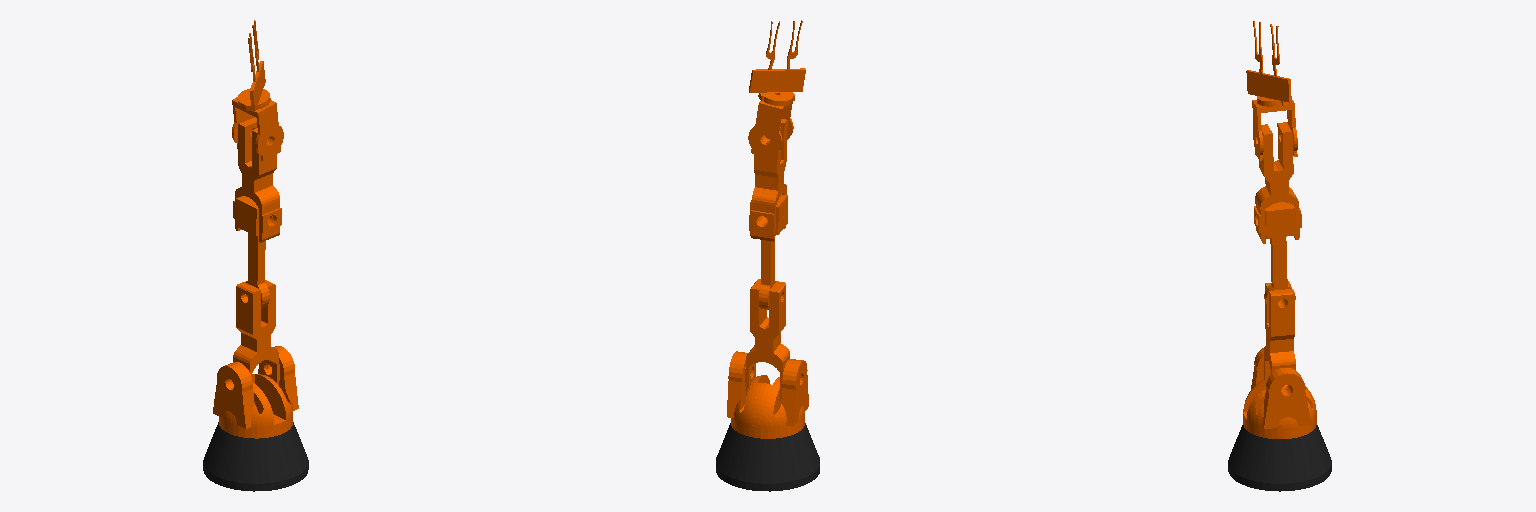
URDF robot description (Braccio_ros):
<?xml version="1.0" encoding="utf-8"?>
<!-- This URDF was automatically created by SolidWorks to URDF Exporter! Originally created by [author] ([email redacted]) 
     Commit Version: 1.6.0-1-g15f4949  Build Version: 1.6.7594.29634
     For more information, please see http://wiki.ros.org/sw_urdf_exporter -->
<robot
  name="Braccio_ros">
  <link
    name="boxr">
    <inertial>
      <origin
        xyz="-1.2975E-18 0.052388 5.4873E-16"
        rpy="0 0 0" />
      <mass
        value="13.783" />
      <inertia
        ixx="0.1324"
        ixy="-6.704E-18"
        ixz="-3.6412E-31"
        iyy="0.18314"
        iyz="5.3146E-16"
        izz="0.1324" />
    </inertial>
    <visual>
      <origin
        xyz="0 0 0"
        rpy="0 0 0" />
      <geometry>
        <mesh
          filename="package://Braccio_ros/meshes/boxr.STL" />
      </geometry>
      <material
        name="">
        <color
          rgba="0.18039 0.18039 0.18039 1" />
      </material>
    </visual>
    <collision>
      <origin
        xyz="0 0 0"
        rpy="0 0 0" />
      <geometry>
        <mesh
          filename="package://Braccio_ros/meshes/boxr.STL" />
      </geometry>
    </collision>
  </link>
  <link
    name="baser">
    <inertial>
      <origin
        xyz="-2.1721E-05 -0.0052676 0.10516"
        rpy="0 0 0" />
      <mass
        value="8.2222" />
      <inertia
        ixx="0.064798"
        ixy="7.3707E-07"
        ixz="7.1517E-06"
        iyy="0.085982"
        iyz="0.00031541"
        izz="0.080171" />
    </inertial>
    <visual>
      <origin
        xyz="0 0 0"
        rpy="0 0 0" />
      <geometry>
        <mesh
          filename="package://Braccio_ros/meshes/baser.STL" />
      </geometry>
      <material
        name="">
        <color
          rgba="0.97647 0.43922 0 1" />
      </material>
    </visual>
    <collision>
      <origin
        xyz="0 0 0"
        rpy="0 0 0" />
      <geometry>
        <mesh
          filename="package://Braccio_ros/meshes/baser.STL" />
      </geometry>
    </collision>
  </link>
  <joint
    name="P1"
    type="revolute">
    <origin
      xyz="0 0 0.137"
      rpy="0 0 -2.9305" />
    <parent
      link="boxr" />
    <child
      link="baser" />
    <axis
      xyz="0 0 1" />
    <limit
      lower="0"
      upper="0"
      effort="0"
      velocity="0" />
  </joint>
  <link
    name="shoulderr">
    <inertial>
      <origin
        xyz="1.3258E-15 4.0525E-15 0.17079"
        rpy="0 0 0" />
      <mass
        value="2.5187" />
      <inertia
        ixx="0.029253"
        ixy="-8.6736E-19"
        ixz="-5.9206E-17"
        iyy="0.031503"
        iyz="-6.6986E-17"
        izz="0.0058438" />
    </inertial>
    <visual>
      <origin
        xyz="0 0 0"
        rpy="0 0 0" />
      <geometry>
        <mesh
          filename="package://Braccio_ros/meshes/shoulderr.STL" />
      </geometry>
      <material
        name="">
        <color
          rgba="0.96863 0.43922 0 1" />
      </material>
    </visual>
    <collision>
      <origin
        xyz="0 0 0"
        rpy="0 0 0" />
      <geometry>
        <mesh
          filename="package://Braccio_ros/meshes/shoulderr.STL" />
      </geometry>
    </collision>
  </link>
  <joint
    name="P2"
    type="revolute">
    <origin
      xyz="0 0 0.213"
      rpy="-0.00053701 0 0" />
    <parent
      link="baser" />
    <child
      link="shoulderr" />
    <axis
      xyz="1 0 0" />
    <limit
      lower="0"
      upper="0"
      effort="0"
      velocity="0" />
  </joint>
  <link
    name="extrar">
    <inertial>
      <origin
        xyz="2.498E-16 1.3372E-15 0.23716"
        rpy="0 0 0" />
      <mass
        value="1.9394" />
      <inertia
        ixx="0.034478"
        ixy="1.7347E-18"
        ixz="-3.4688E-17"
        iyy="0.034608"
        iyz="-7.7302E-17"
        izz="0.0031081" />
    </inertial>
    <visual>
      <origin
        xyz="0 0 0"
        rpy="0 0 0" />
      <geometry>
        <mesh
          filename="package://Braccio_ros/meshes/extrar.STL" />
      </geometry>
      <material
        name="">
        <color
          rgba="0.96863 0.43922 0 1" />
      </material>
    </visual>
    <collision>
      <origin
        xyz="0 0 0"
        rpy="0 0 0" />
      <geometry>
        <mesh
          filename="package://Braccio_ros/meshes/extrar.STL" />
      </geometry>
    </collision>
  </link>
  <joint
    name="P3"
    type="revolute">
    <origin
      xyz="0 0 0.32135"
      rpy="0 -0.024086 -1.5708" />
    <parent
      link="shoulderr" />
    <child
      link="extrar" />
    <axis
      xyz="0 1 0" />
    <limit
      lower="0"
      upper="0"
      effort="0"
      velocity="0" />
  </joint>
  <link
    name="elbowr">
    <inertial>
      <origin
        xyz="-6.8456E-05 -2.0817E-17 0.16464"
        rpy="0 0 0" />
      <mass
        value="2.5528" />
      <inertia
        ixx="0.033301"
        ixy="-8.6736E-19"
        ixz="-1.8238E-05"
        iyy="0.036039"
        iyz="8.0299E-18"
        izz="0.0064135" />
    </inertial>
    <visual>
      <origin
        xyz="0 0 0"
        rpy="0 0 0" />
      <geometry>
        <mesh
          filename="package://Braccio_ros/meshes/elbowr.STL" />
      </geometry>
      <material
        name="">
        <color
          rgba="0.96863 0.43922 0 1" />
      </material>
    </visual>
    <collision>
      <origin
        xyz="0 0 0"
        rpy="0 0 0" />
      <geometry>
        <mesh
          filename="package://Braccio_ros/meshes/elbowr.STL" />
      </geometry>
    </collision>
  </link>
  <joint
    name="P4"
    type="revolute">
    <origin
      xyz="0 0 0.326"
      rpy="-0.019503 0 0" />
    <parent
      link="extrar" />
    <child
      link="elbowr" />
    <axis
      xyz="1 0 0" />
    <limit
      lower="0"
      upper="0"
      effort="0"
      velocity="0" />
  </joint>
  <link
    name="pitchr">
    <inertial>
      <origin
        xyz="-4.6282E-15 0.064889 -5.5511E-17"
        rpy="0 0 0" />
      <mass
        value="0.76987" />
      <inertia
        ixx="0.0039598"
        ixy="-1.6263E-19"
        ixz="-1.7347E-18"
        iyy="0.0031235"
        iyz="2.7274E-18"
        izz="0.0057352" />
    </inertial>
    <visual>
      <origin
        xyz="0 0 0"
        rpy="0 0 0" />
      <geometry>
        <mesh
          filename="package://Braccio_ros/meshes/pitchr.STL" />
      </geometry>
      <material
        name="">
        <color
          rgba="0.96863 0.43922 0 1" />
      </material>
    </visual>
    <collision>
      <origin
        xyz="0 0 0"
        rpy="0 0 0" />
      <geometry>
        <mesh
          filename="package://Braccio_ros/meshes/pitchr.STL" />
      </geometry>
    </collision>
  </link>
  <joint
    name="P5"
    type="revolute">
    <origin
      xyz="0 0 0.32136"
      rpy="1.4477 0 0" />
    <parent
      link="elbowr" />
    <child
      link="pitchr" />
    <axis
      xyz="1 0 0" />
    <limit
      lower="0"
      upper="0"
      effort="0"
      velocity="0" />
  </joint>
  <link
    name="rollr">
    <inertial>
      <origin
        xyz="-0.010056 0.054872 -1.6653E-16"
        rpy="0 0 0" />
      <mass
        value="0.50117" />
      <inertia
        ixx="0.0016839"
        ixy="0.00011728"
        ixz="7.3184E-19"
        iyy="0.001331"
        iyz="-1.4021E-17"
        izz="0.0008487" />
    </inertial>
    <visual>
      <origin
        xyz="0 0 0"
        rpy="0 0 0" />
      <geometry>
        <mesh
          filename="package://Braccio_ros/meshes/rollr.STL" />
      </geometry>
      <material
        name="">
        <color
          rgba="0.96863 0.43922 0 1" />
      </material>
    </visual>
    <collision>
      <origin
        xyz="0 0 0"
        rpy="0 0 0" />
      <geometry>
        <mesh
          filename="package://Braccio_ros/meshes/rollr.STL" />
      </geometry>
    </collision>
  </link>
  <joint
    name="P6"
    type="revolute">
    <origin
      xyz="0 0.13367 0"
      rpy="0 0.64444 0" />
    <parent
      link="pitchr" />
    <child
      link="rollr" />
    <axis
      xyz="0 1 0" />
    <limit
      lower="0"
      upper="0"
      effort="0"
      velocity="0" />
  </joint>
</robot>

--- Facts derived from the render (not from the file) ---
Views: 3 orthographic renders of the robot side by side, from view 1: azimuth 30°, elevation 25°; view 2: azimuth 150°, elevation 25°; view 3: azimuth 270°, elevation 25°.
Model Braccio_ros with 7 links and 6 joints (6 revolute), rooted at boxr, posed all joints at 0.
Links seen in each view (by area): view 1: baser, boxr, shoulderr, elbowr, extrar, pitchr, rollr; view 2: boxr, baser, shoulderr, elbowr, rollr, pitchr, extrar; view 3: boxr, baser, elbowr, shoulderr, extrar, rollr, pitchr.
Link boxes in pixels (x1,y1,x2,y2): baser: [213, 346, 298, 438]; boxr: [203, 422, 308, 491]; shoulderr: [233, 280, 279, 384]; elbowr: [233, 117, 281, 242]; extrar: [236, 196, 272, 307]; pitchr: [232, 97, 283, 160]; rollr: [237, 20, 270, 111]; boxr: [716, 423, 819, 491]; baser: [727, 351, 808, 438]; shoulderr: [745, 279, 789, 401]; elbowr: [750, 119, 787, 241]; rollr: [749, 20, 805, 105]; pitchr: [748, 101, 793, 158]; extrar: [749, 194, 787, 309]; boxr: [1228, 425, 1331, 491]; baser: [1243, 348, 1316, 438]; elbowr: [1254, 122, 1301, 243]; shoulderr: [1264, 281, 1295, 389]; extrar: [1264, 202, 1295, 306]; rollr: [1246, 21, 1291, 106]; pitchr: [1252, 100, 1297, 160].
Size in the robot's own frame: 0.3828 by 0.3822 by 1.8 metres.
7 mesh visuals loaded from 7 distinct referenced files (7 binary STL).